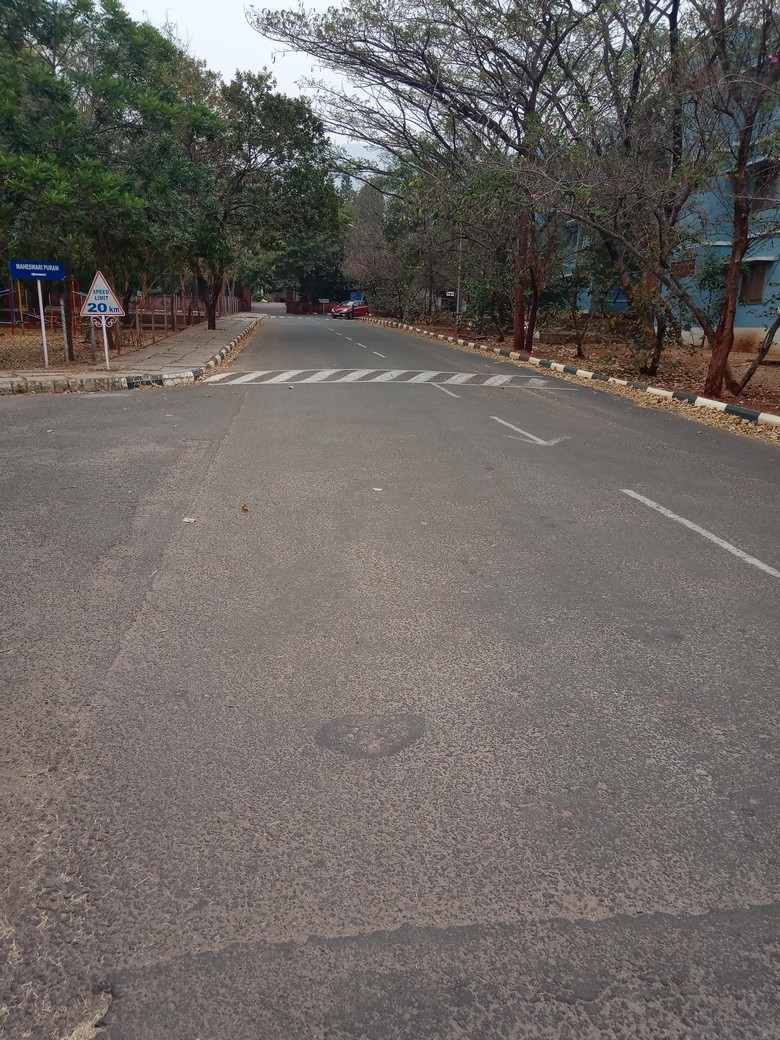bump: (205, 365, 562, 389)
